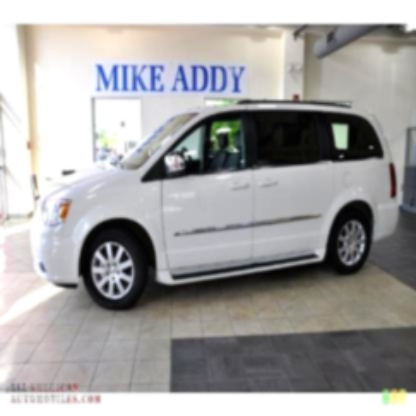Vehicle: (30, 102, 398, 310)
